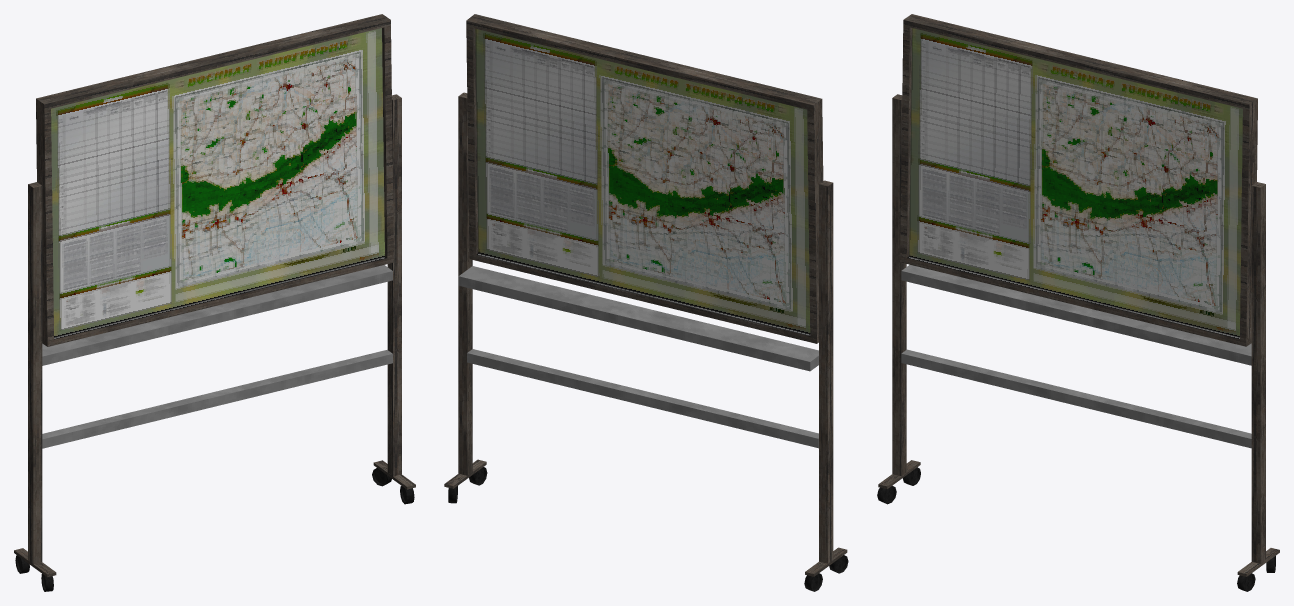
The model's file is board.glb.
3 views of the same model, side by side, from view 1: azimuth 30°, elevation 25°; view 2: azimuth 150°, elevation 25°; view 3: azimuth 330°, elevation 25° (orthographic).
Parts seen in each view (by area): view 1: board; view 2: board; view 3: board.
Part boxes in pixels (x1,y1,x2,y2): board: [14, 14, 415, 591]; board: [444, 14, 848, 591]; board: [877, 14, 1279, 591].
Bounding box in the file's own units: 2.07 × 2.54 × 0.3426.
Materials: 1 (1 with a texture image).
